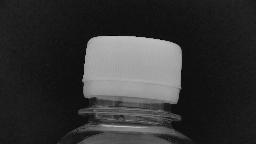Loose Cap: (73, 77, 187, 123)
